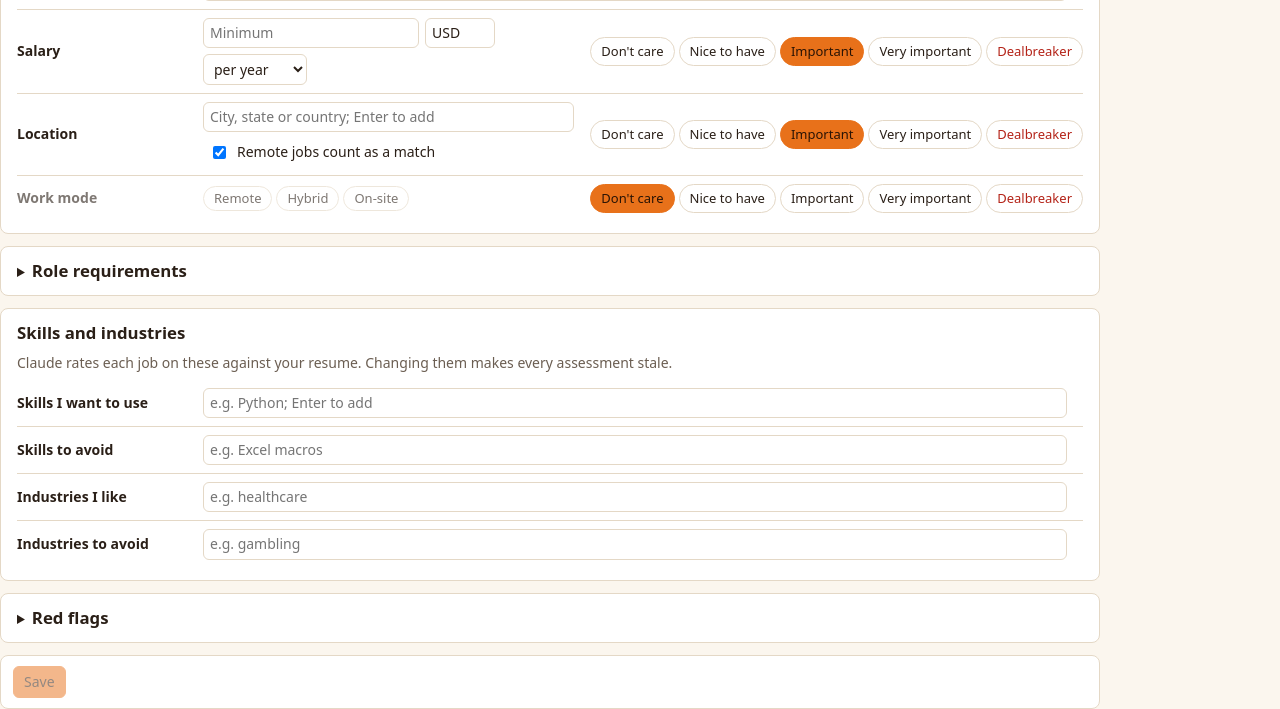
Scenario: PreferencesPage › a budget stop keeps the dialog open with the message
The image size is (1280, 709).
(page scrolled)
Type "Gambling" into the field named "Industries to avoid" at (635, 545), box x1=203 y1=530 x2=1067 y2=560
Then press Enter
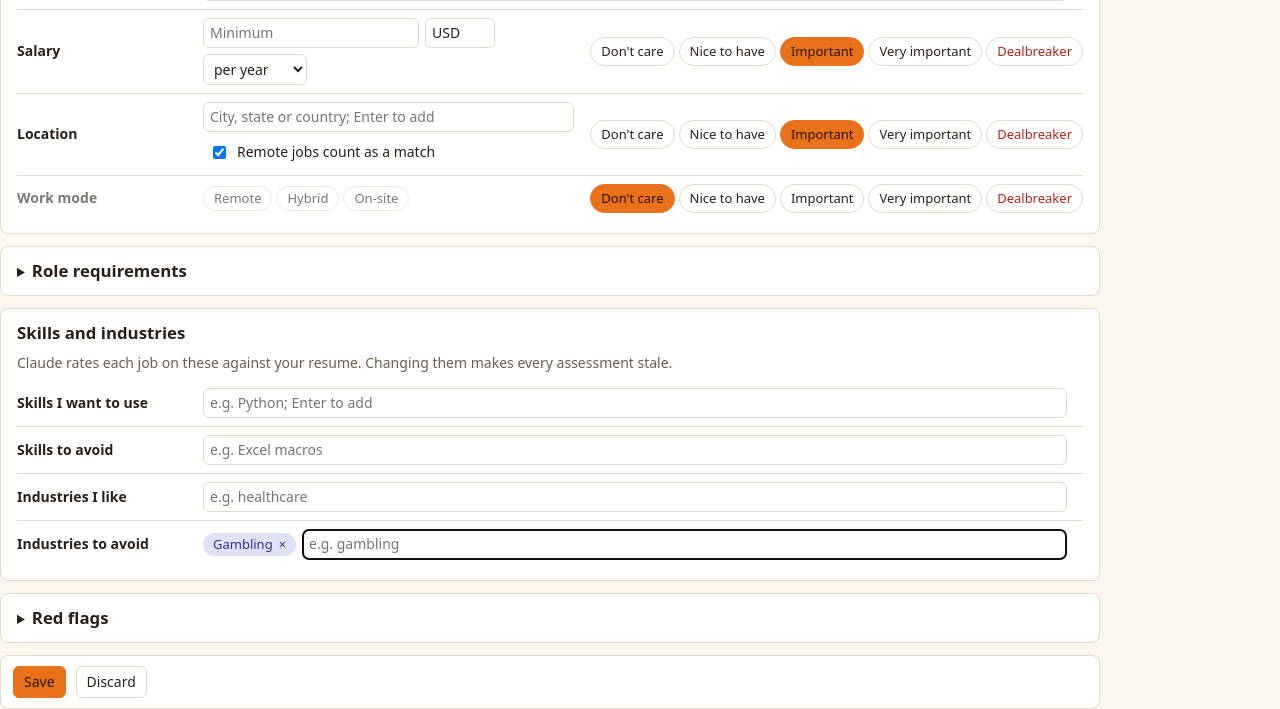
Click the button "Save" at (39, 682), box x1=13 y1=666 x2=66 y2=698
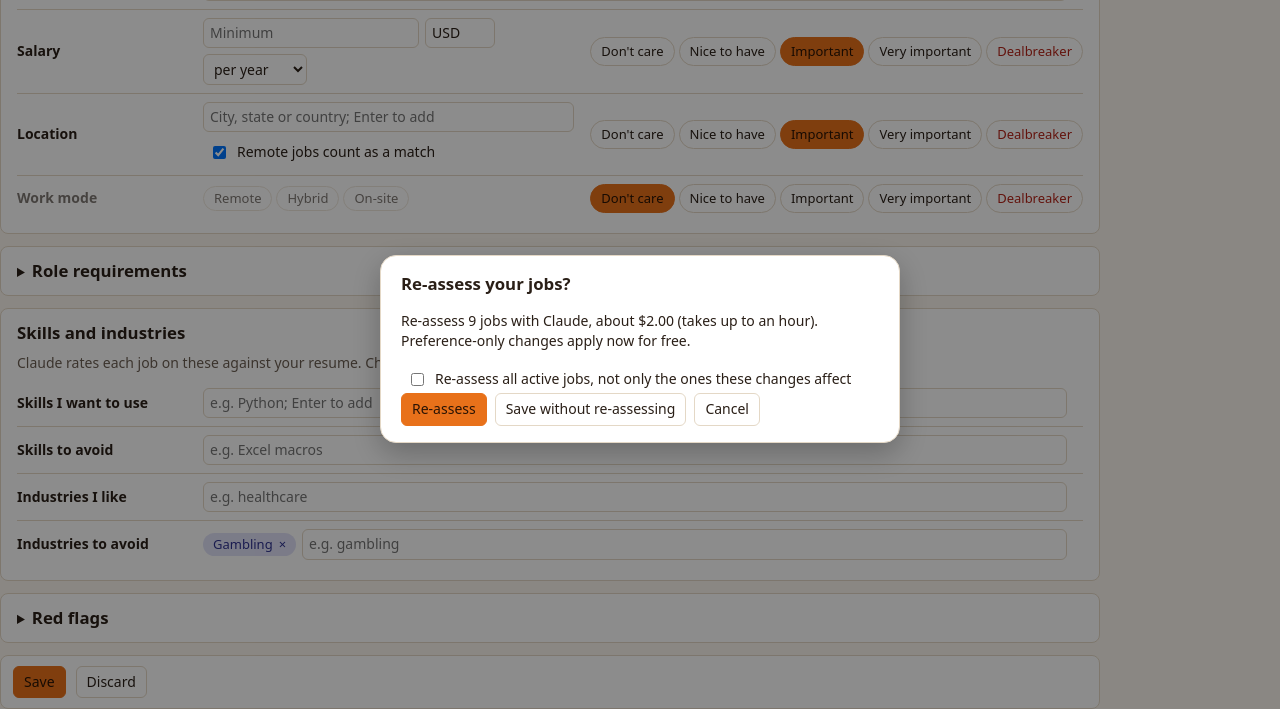
Click the button "Re-assess" at (444, 410), box x1=401 y1=394 x2=487 y2=426
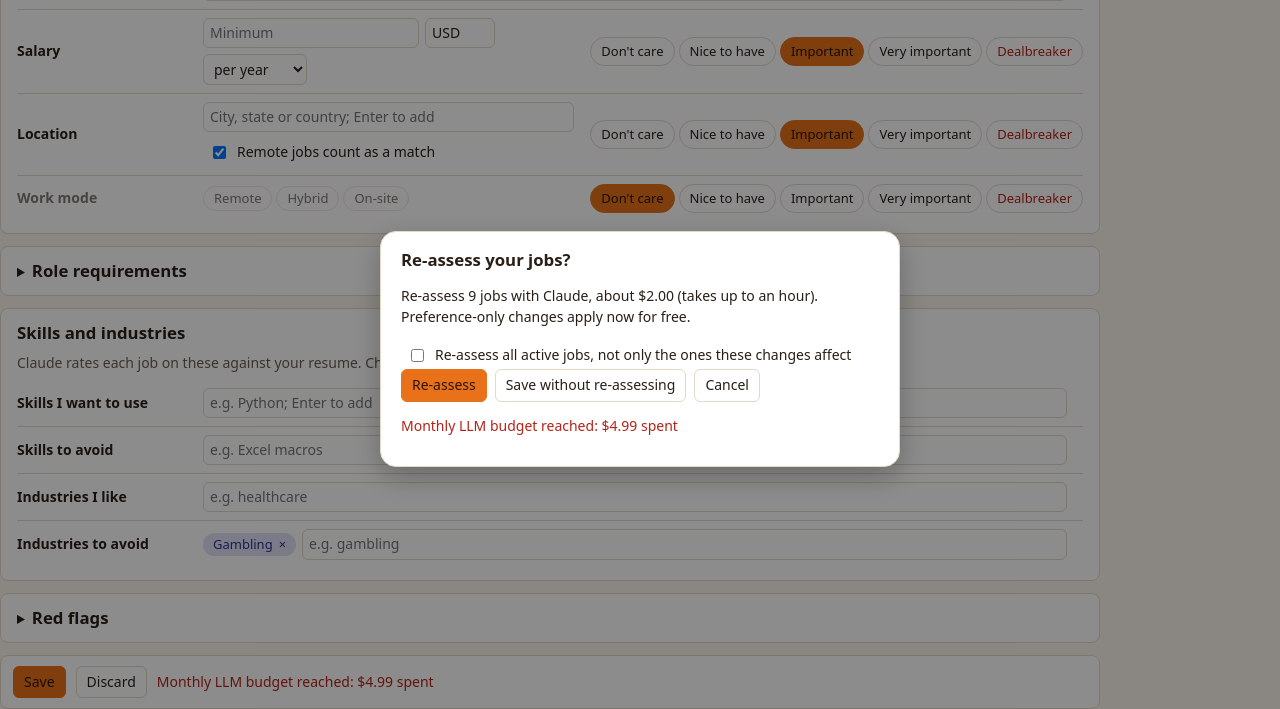
expect the button "Save" is enabled: met, box x1=13 y1=666 x2=66 y2=698
expect the message shows "budget reached": met, box x1=401 y1=416 x2=678 y2=435
